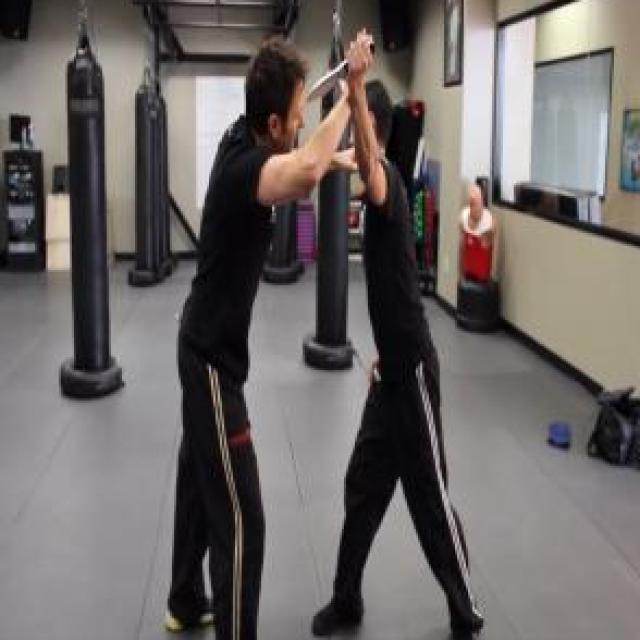knife: (303, 28, 377, 104)
